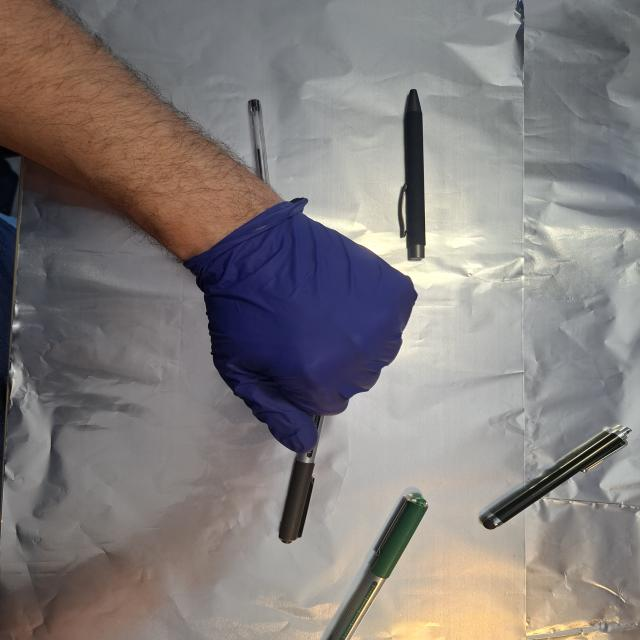glove_on: (185, 196, 422, 456)
